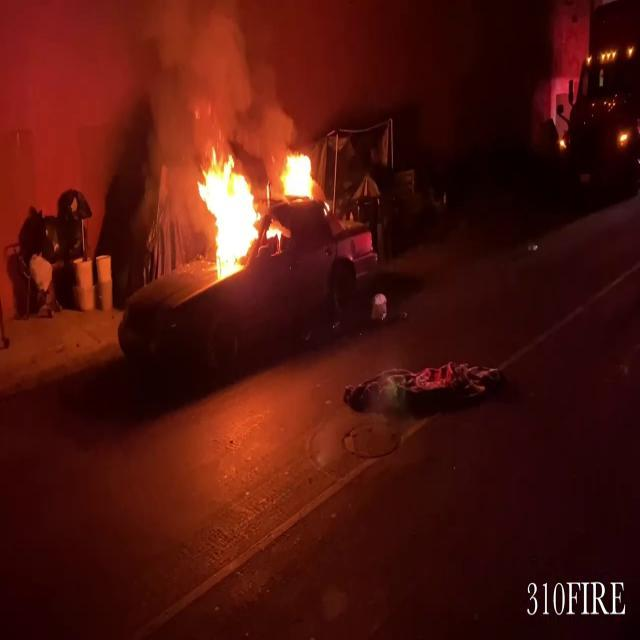Fire: (193, 146, 268, 282), (280, 147, 322, 206)
Smoke: (0, 0, 252, 193)
